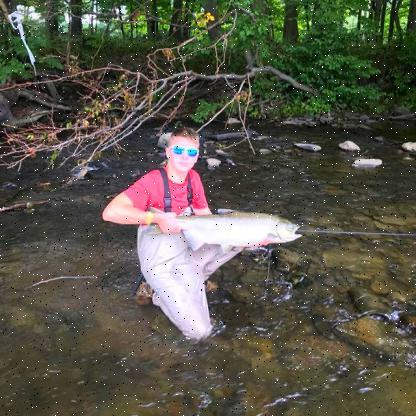fish: (142, 202, 302, 250)
